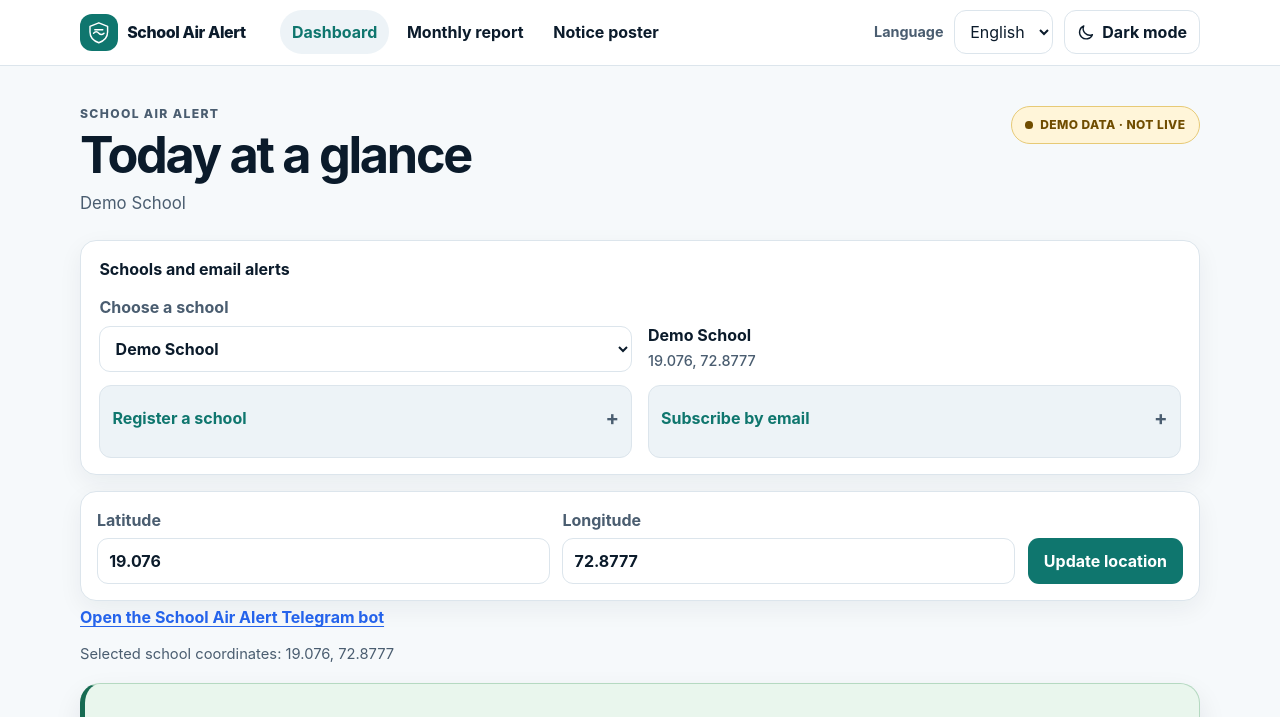
Test: dashboard states › switches dashboard labels when a language is selected
The width and height of the screenshot is (1280, 717).
Select "हिन्दी" in the dropdown labelled "Language" at (1004, 32), box [954, 10, 1053, 54]
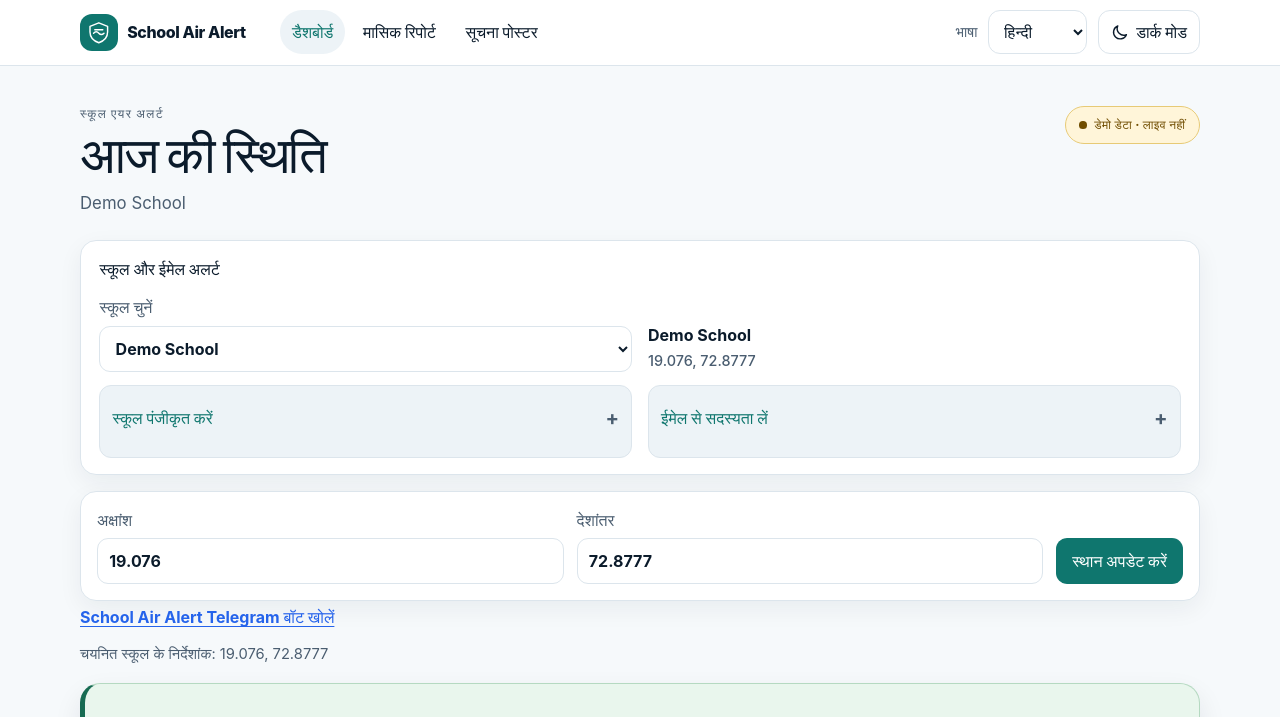
Check: the heading "आज की स्थिति" is shown, box [80, 128, 325, 182]
